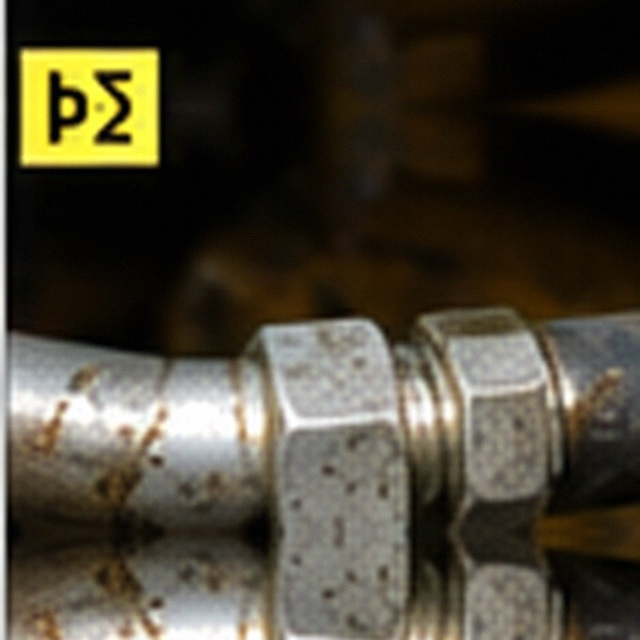hydraulic_oil_leak: (182, 186, 463, 497)
